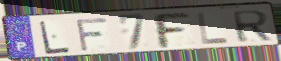7: (116, 12, 147, 53)
F: (150, 12, 193, 50), (74, 16, 110, 53)
L: (38, 19, 72, 56), (195, 12, 231, 46)
R: (230, 9, 274, 44)
